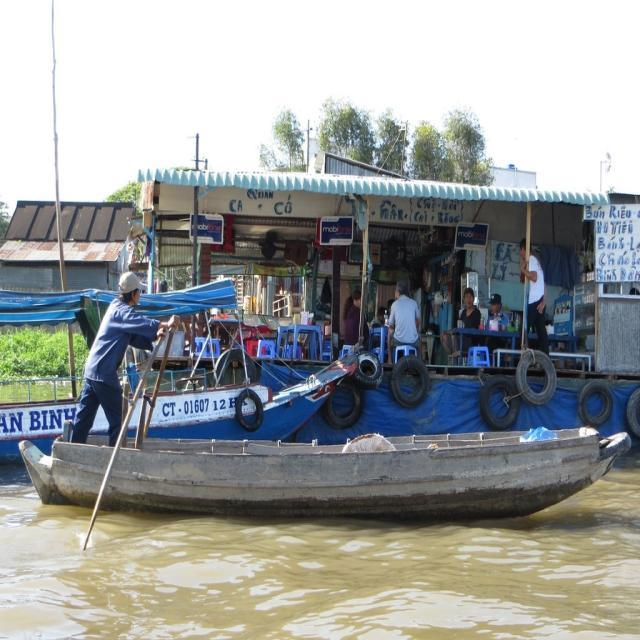boat: (45, 426, 620, 534)
